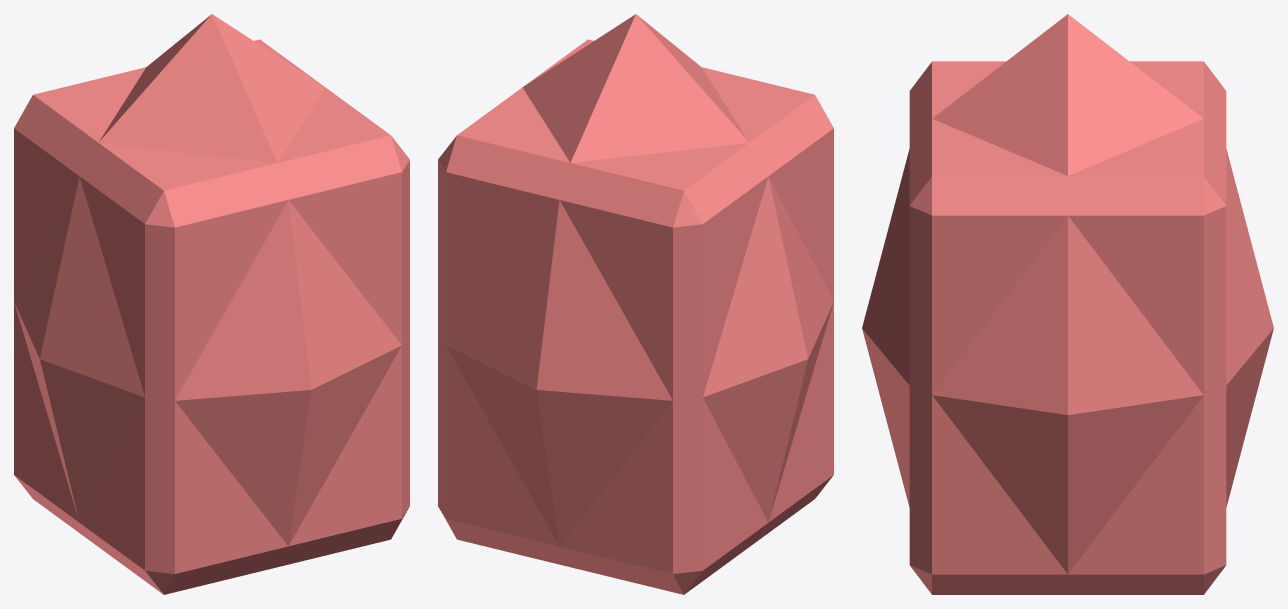
The model's file is enemy.obj.
3 renders of one model, left to right at view 1: azimuth 30°, elevation 25°; view 2: azimuth 150°, elevation 25°; view 3: azimuth 270°, elevation 25°, orthographic. The views are drawn at different scales.
Visible parts, largest first — view 1: Cube.001; view 2: Cube.001; view 3: Cube.001.
Part boxes in pixels (box(x1,y1,x2,y2)): Cube.001: box(14, 14, 409, 594); Cube.001: box(438, 14, 833, 594); Cube.001: box(862, 14, 1273, 594).
Size of the model in its own units: 1.56 by 2.19 by 1.56.
Materials: 1 (1 with a texture image).
